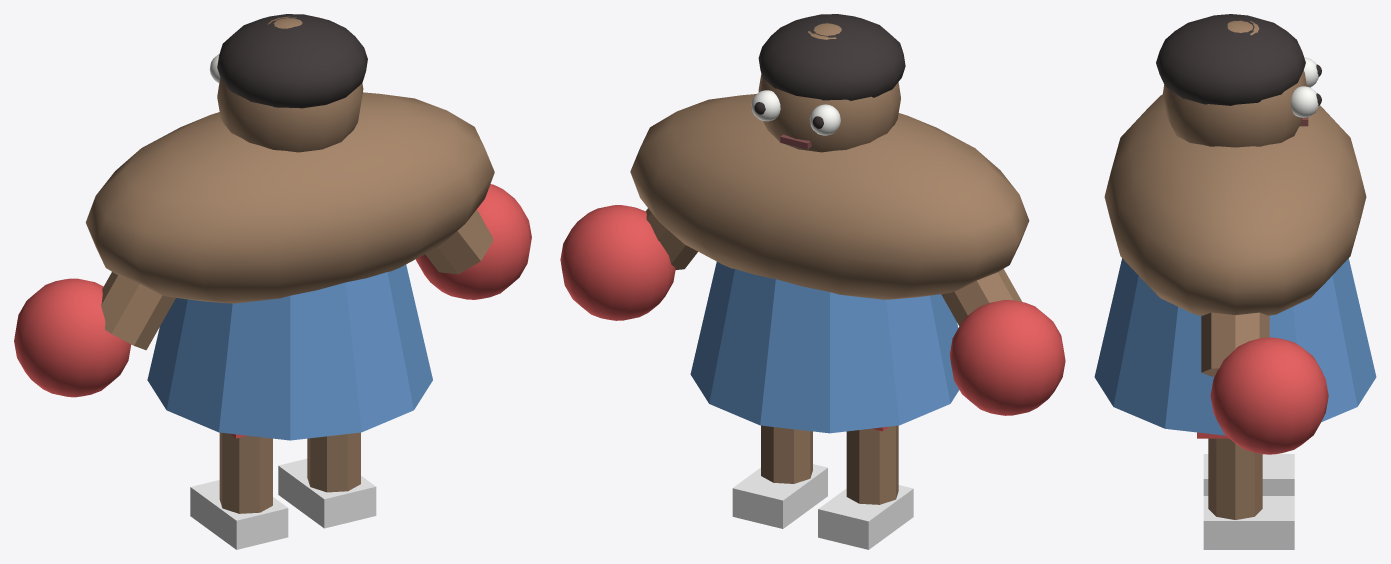
Rendered from P3_Boxer.fbx.
3 renders of one model, left to right at view 1: azimuth 30°, elevation 25°; view 2: azimuth 150°, elevation 25°; view 3: azimuth 270°, elevation 25°, orthographic. The views are drawn at different scales.
Parts seen in each view (by area): view 1: Torso, Head, ArmL, ArmR, LegL, LegR; view 2: Torso, Head, ArmL, ArmR, LegL, LegR; view 3: Torso, Head, ArmR, LegR, LegL.
Part boxes in pixels (left/top/right/bottom): Torso: left=85, top=92, right=494, bottom=440; Head: left=209, top=14, right=367, bottom=152; ArmL: left=14, top=272, right=175, bottom=397; ArmR: left=416, top=184, right=531, bottom=299; LegL: left=190, top=432, right=288, bottom=549; LegR: left=278, top=432, right=376, bottom=528; Torso: left=630, top=94, right=1029, bottom=433; Head: left=751, top=14, right=905, bottom=152; ArmL: left=941, top=269, right=1065, bottom=415; ArmR: left=560, top=205, right=697, bottom=320; LegL: left=818, top=425, right=913, bottom=549; LegR: left=732, top=425, right=827, bottom=528; Torso: left=1094, top=94, right=1376, bottom=435; Head: left=1156, top=14, right=1321, bottom=147; ArmR: left=1201, top=312, right=1328, bottom=454; LegR: left=1197, top=432, right=1294, bottom=549; LegL: left=1203, top=454, right=1294, bottom=495.
Bounding box in the file's own units: 252 × 239 × 124.
